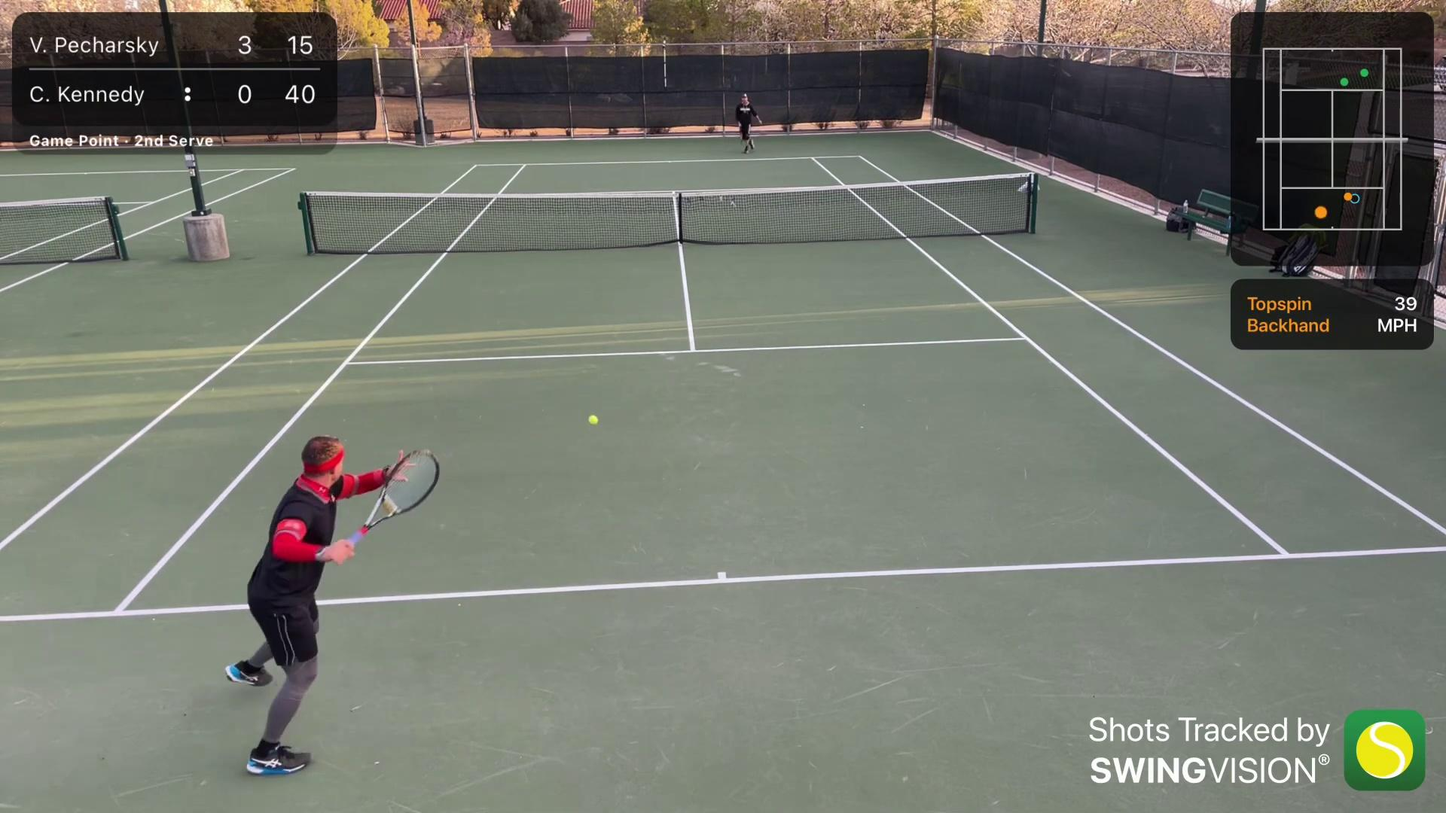ball: (584, 410, 599, 426)
